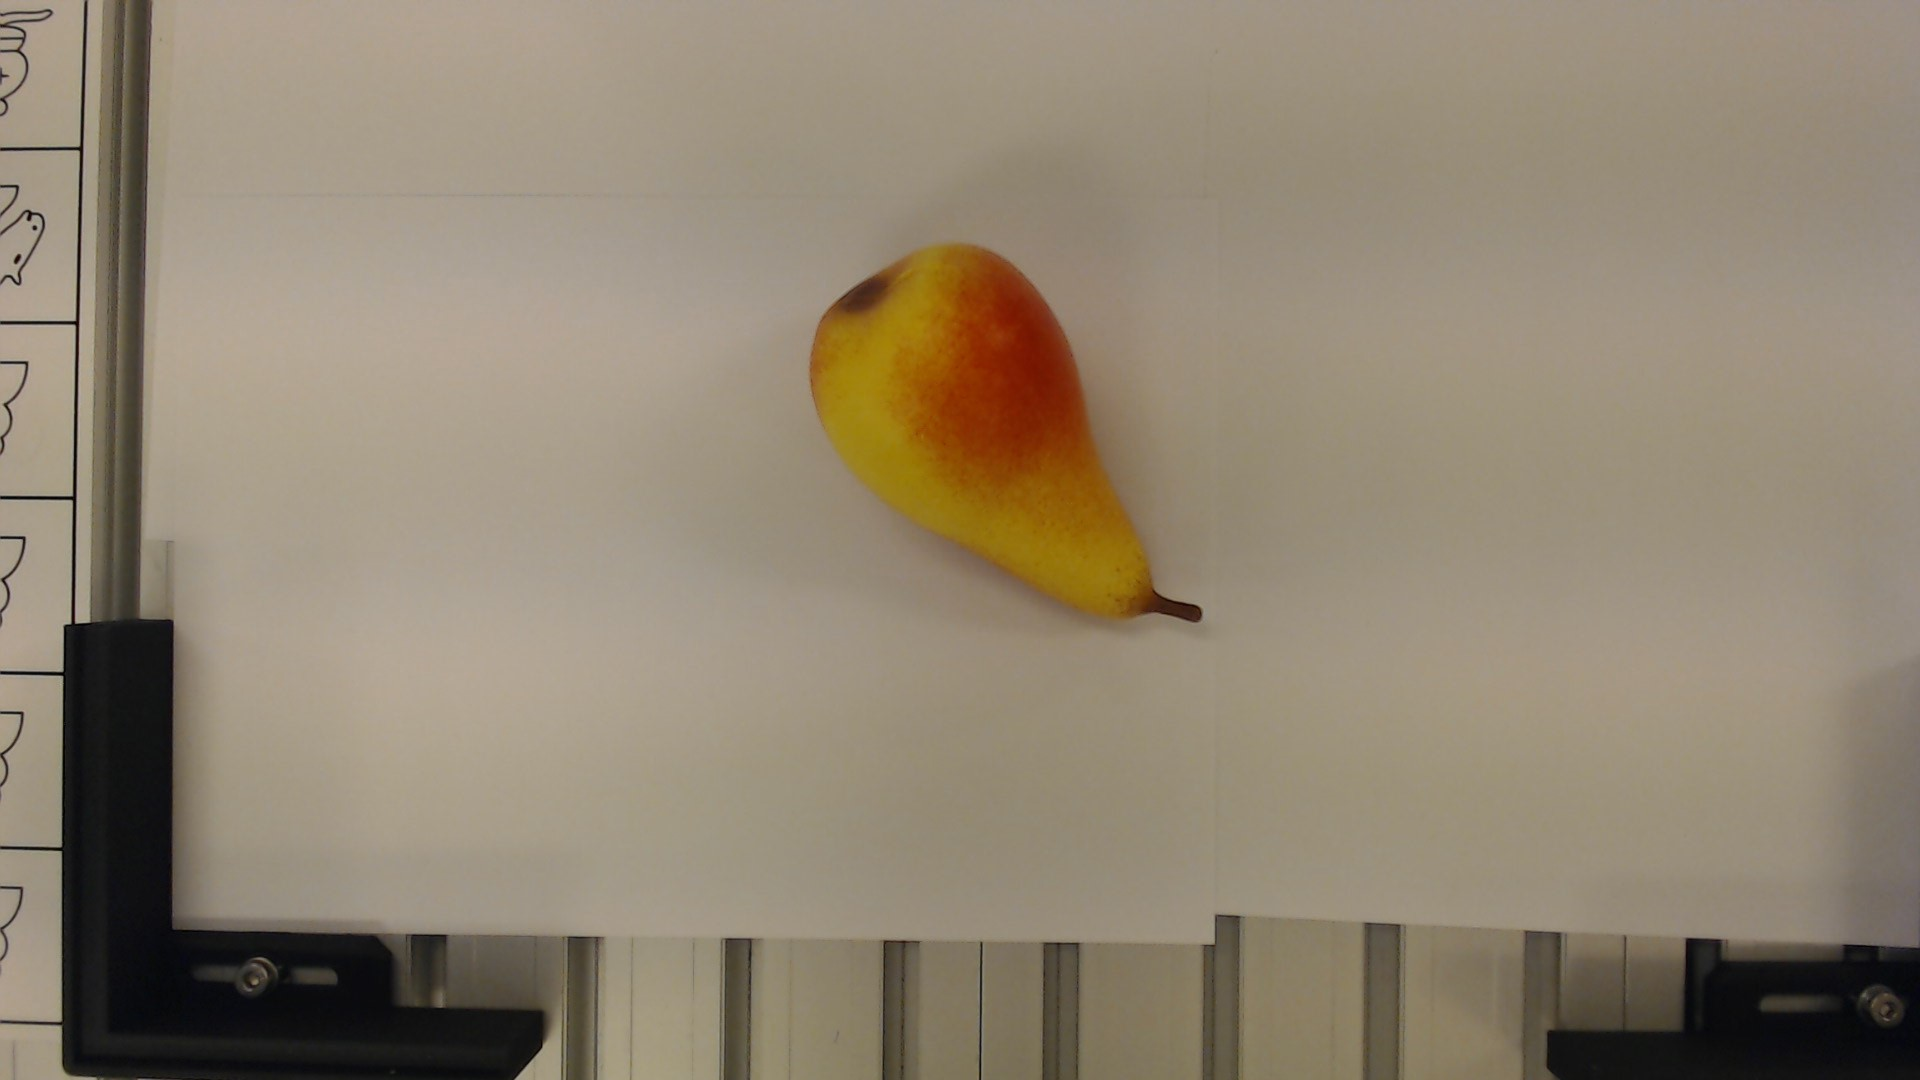Pear: (804, 243, 1205, 626)
